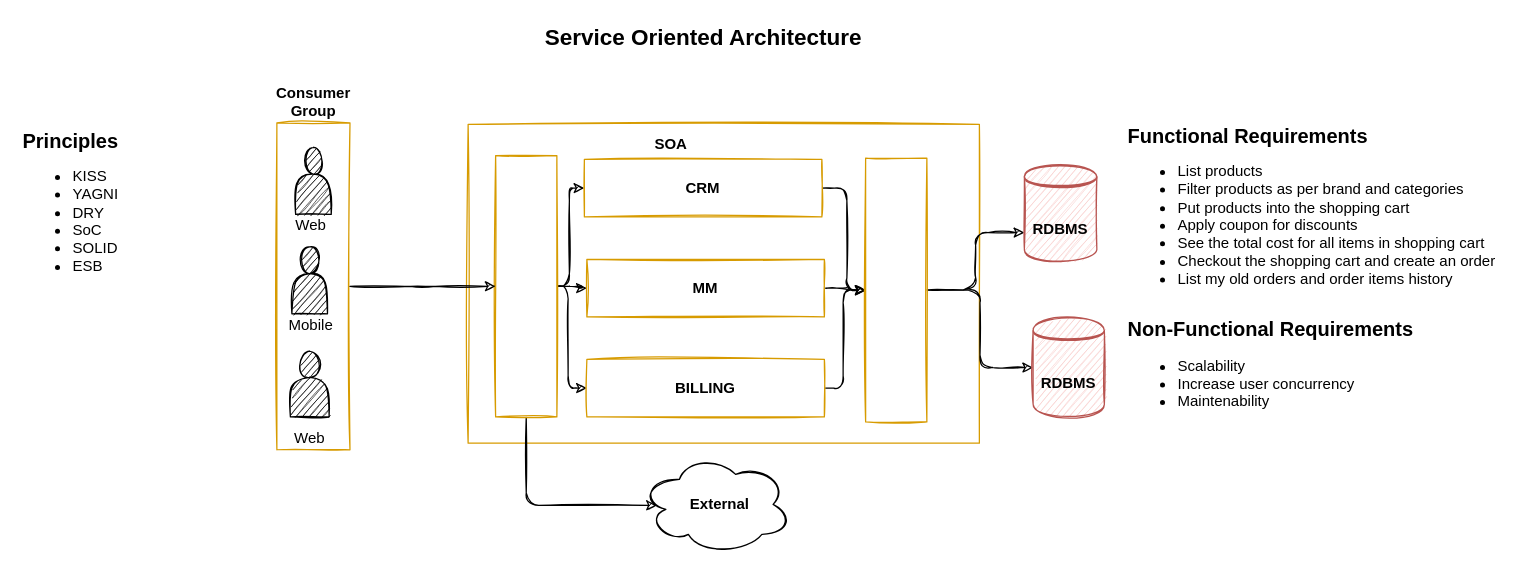
Some shapes in this 1526 by 576 pixel diagram are drawn without their labels. Here are the shapes that lost their labels. From the top down, the centre of each, then its label:
(x=525, y=285): ESB
(x=895, y=289): Shared Data
